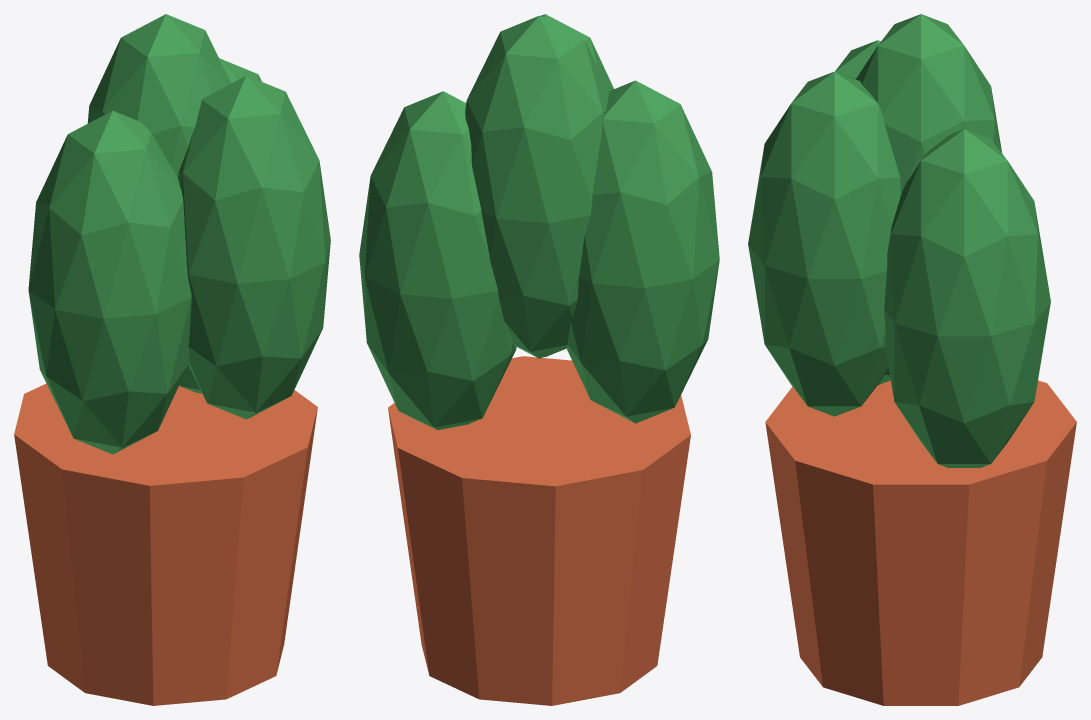
Rendered from Kitchen_Plant.fbx.
3 renders of one model, left to right at view 1: azimuth 30°, elevation 25°; view 2: azimuth 150°, elevation 25°; view 3: azimuth 270°, elevation 25°, orthographic.
Visible parts, largest first — view 1: Plant; view 2: Plant; view 3: Plant.
Part boxes in pixels (x1=…): Plant: x1=14, y1=14, x2=330, y2=705; Plant: x1=359, y1=14, x2=719, y2=705; Plant: x1=748, y1=14, x2=1076, y2=705.
Size of the model in its own units: 0.3902 by 0.82 by 0.38.
